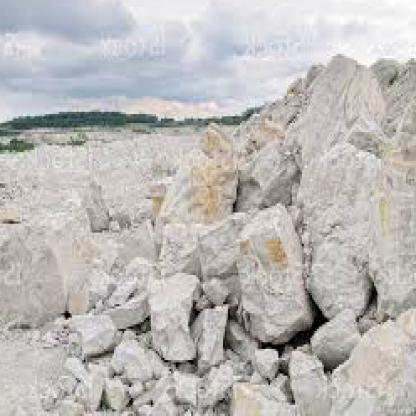Sedimentary_Chalk: (2, 199, 94, 336), (304, 145, 380, 309), (148, 262, 201, 360), (290, 340, 329, 414), (76, 309, 122, 356), (82, 367, 112, 405), (106, 371, 128, 405)
